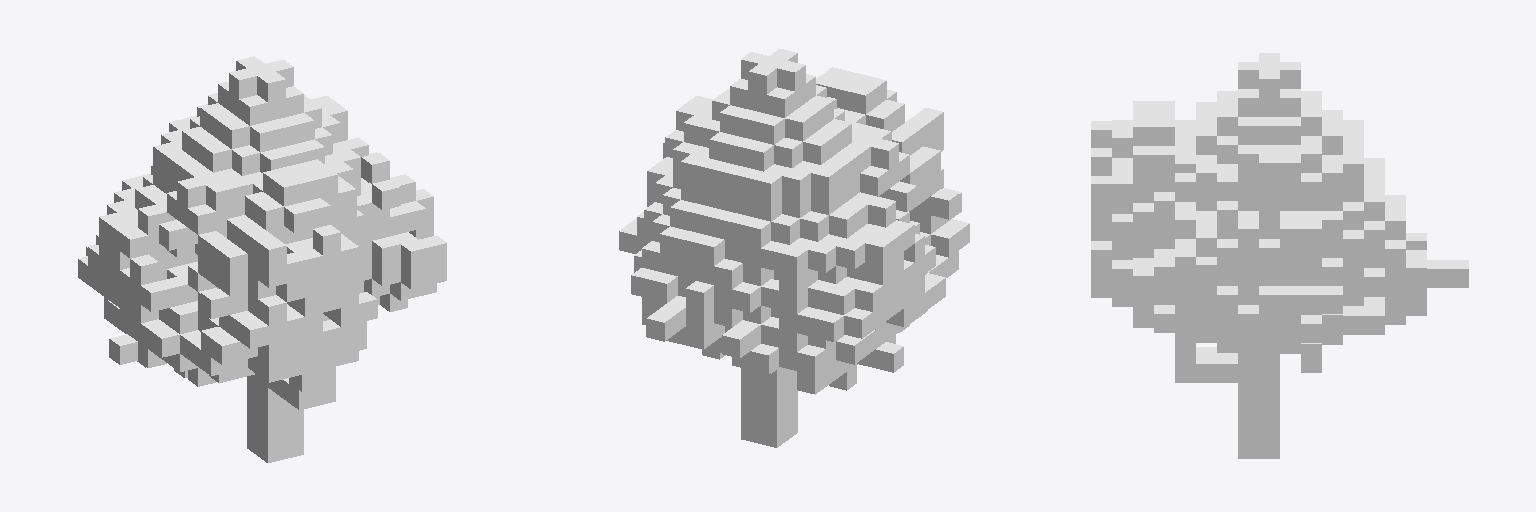
File: treeV1.obj
3 views of the same model, side by side, from view 1: azimuth 30°, elevation 25°; view 2: azimuth 150°, elevation 25°; view 3: azimuth 270°, elevation 25° (orthographic).
Bounding box in the file's own units: 15 × 20 × 18.